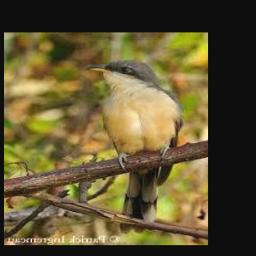Cuckoo: (85, 61, 185, 234)
